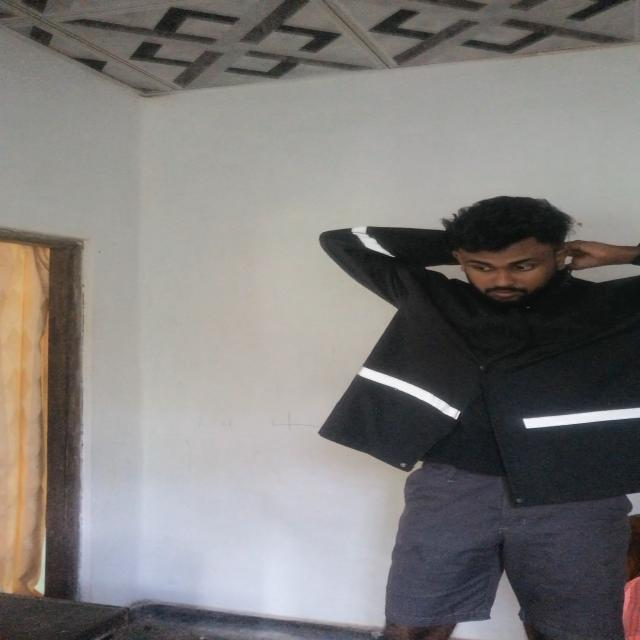Jacket_Wearer: (276, 216, 640, 497)
